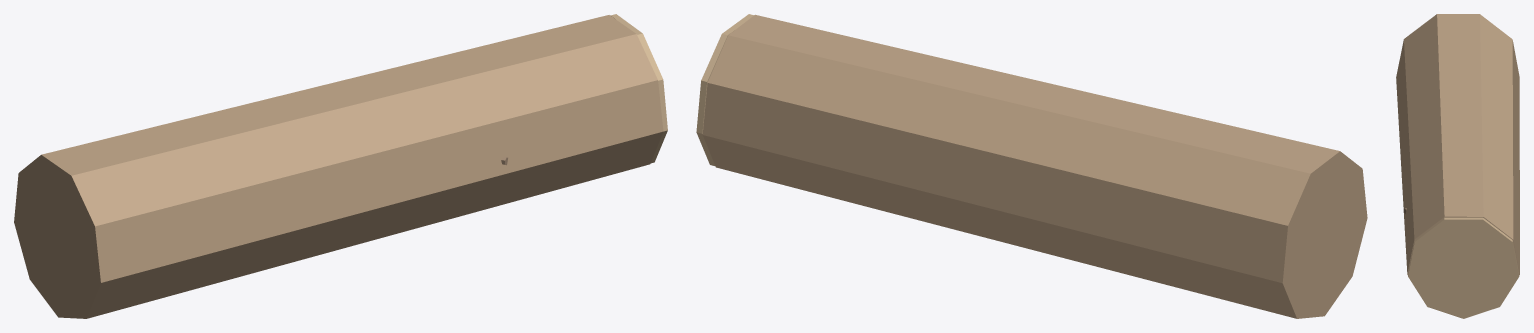
Rendered from log_fallen_small.glb.
3 renders of one model, left to right at view 1: azimuth 30°, elevation 25°; view 2: azimuth 150°, elevation 25°; view 3: azimuth 270°, elevation 25°, orthographic. The views are drawn at different scales.
Visible parts, largest first — view 1: log_fallen_small_bark, log_fallen_small_bark_light; view 2: log_fallen_small_bark, log_fallen_small_bark_light; view 3: log_fallen_small_bark, log_fallen_small_bark_light.
Part boxes in pixels (x1,y1,x2,y2): log_fallen_small_bark: (14,15,663,318); log_fallen_small_bark_light: (610,14,667,163); log_fallen_small_bark: (702,14,1367,318); log_fallen_small_bark_light: (696,14,753,165); log_fallen_small_bark: (1396,14,1519,274); log_fallen_small_bark_light: (1408,217,1519,318).
Bounding box in the file's own units: 1.77 × 0.4467 × 0.4533.
